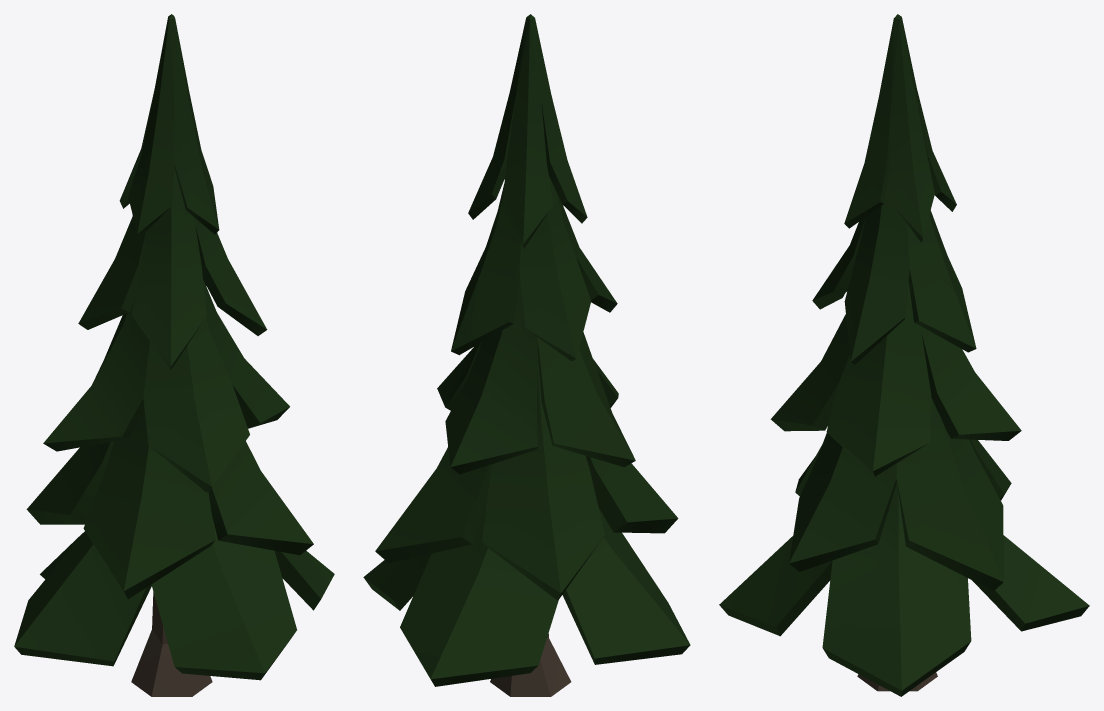
Rendered from SpruceC.fbx.
3 views of the same model, side by side, from view 1: azimuth 30°, elevation 25°; view 2: azimuth 150°, elevation 25°; view 3: azimuth 270°, elevation 25° (orthographic).
Visible parts, largest first — view 1: SpruceC; view 2: SpruceC; view 3: SpruceC.
Boxes of the visible parts, x1=… form: SpruceC: x1=14, y1=14, x2=334, y2=696; SpruceC: x1=363, y1=14, x2=690, y2=696; SpruceC: x1=719, y1=14, x2=1089, y2=696.
Bounding box in the file's own units: 824 × 1623 × 823.
